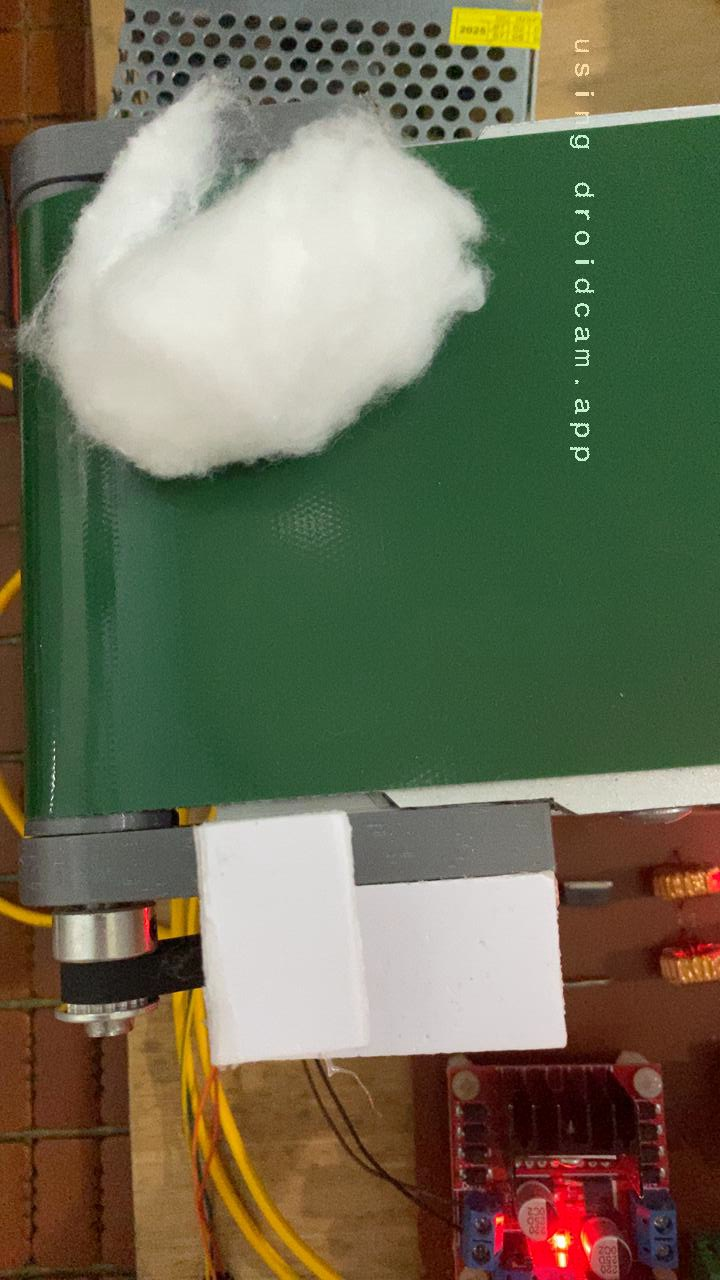cotton: (0, 141, 497, 793)
